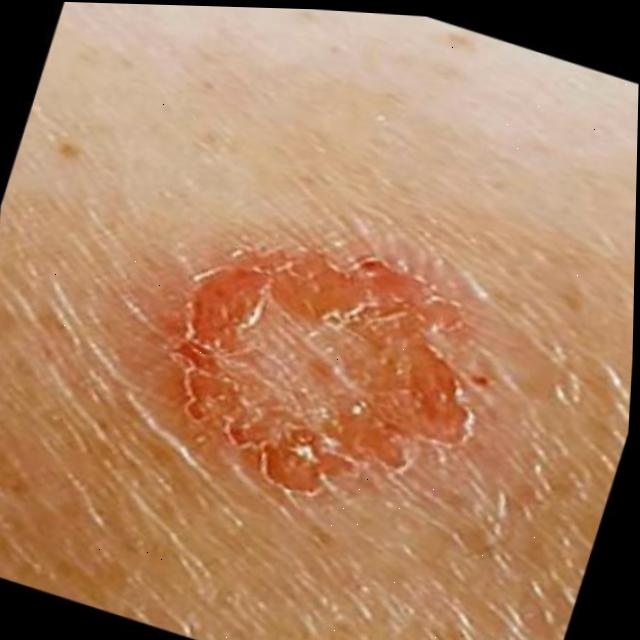Eczema: (150, 227, 492, 514)
